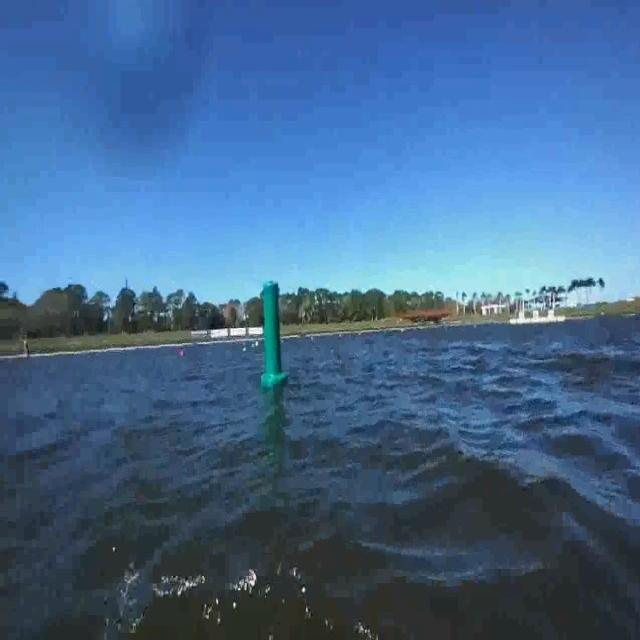green-column-buoy: (262, 279, 290, 388)
